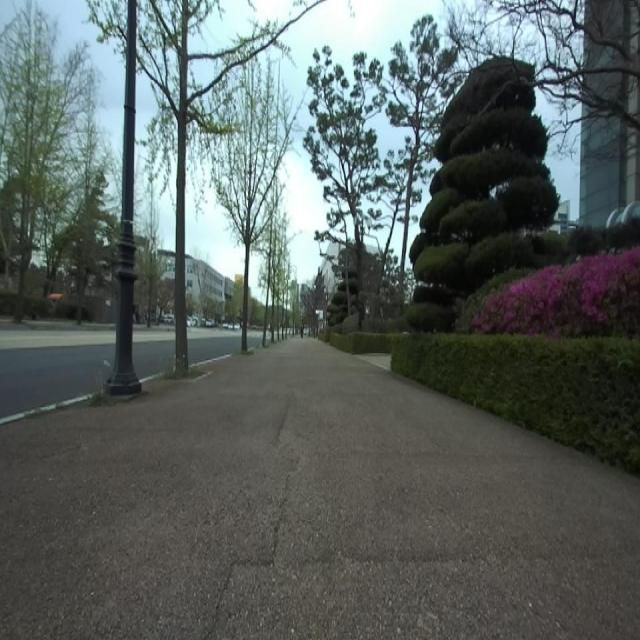sidewalk: (0, 338, 640, 639), (0, 393, 94, 424), (0, 393, 92, 424), (140, 374, 158, 382)
